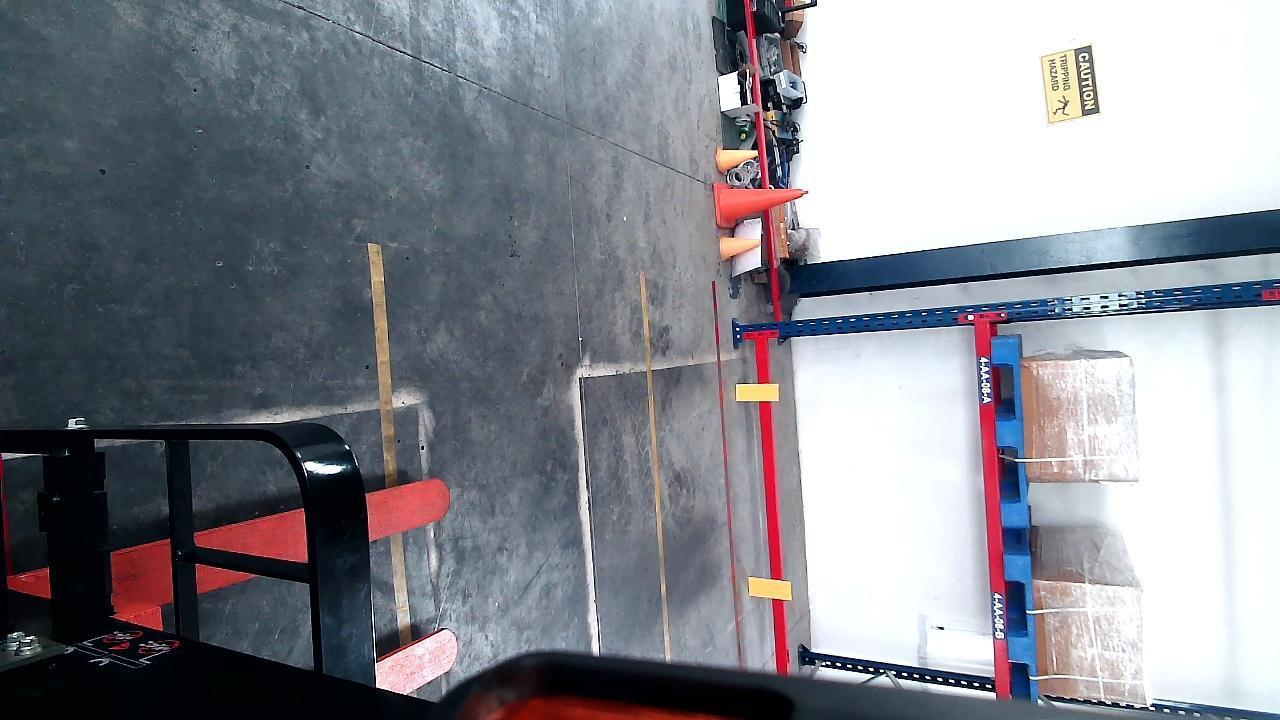h_rack: (729, 0, 786, 202), (977, 324, 1008, 694), (756, 330, 785, 665)
orange_strip: (746, 574, 789, 601), (736, 381, 777, 401)
red_line: (708, 277, 746, 669)
small_pallet: (992, 330, 1029, 524), (1003, 550, 1039, 705)
yellow_line: (642, 271, 674, 659), (370, 235, 400, 477)
